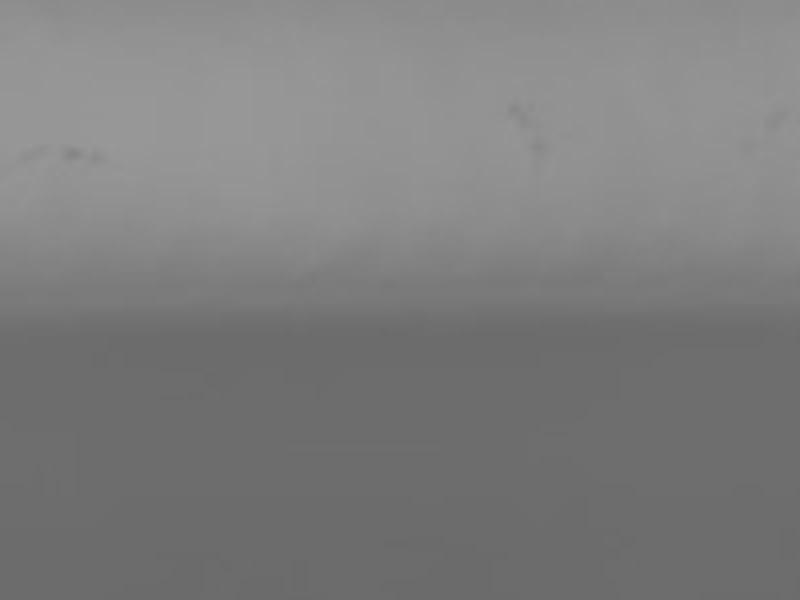defect: (506, 103, 534, 128), (734, 133, 757, 157), (762, 107, 783, 132), (15, 147, 49, 162), (530, 135, 548, 158), (60, 147, 85, 162), (89, 148, 105, 168)
